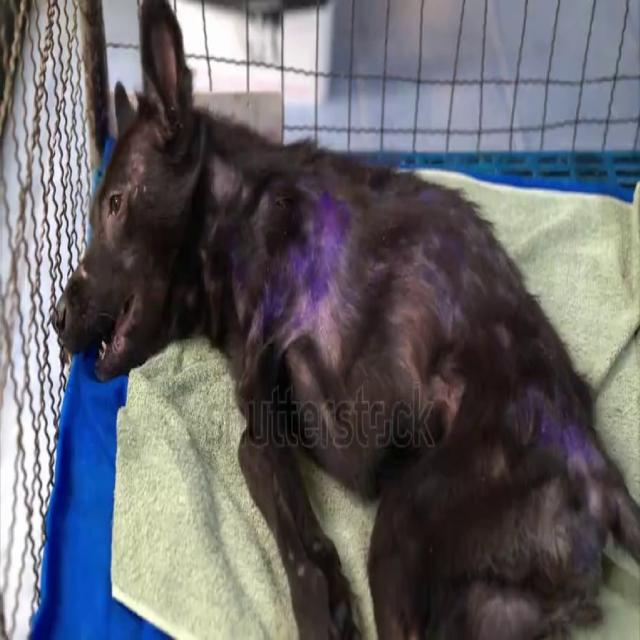injured-animals: (48, 3, 636, 636)
